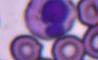N: (23, 0, 76, 39)
